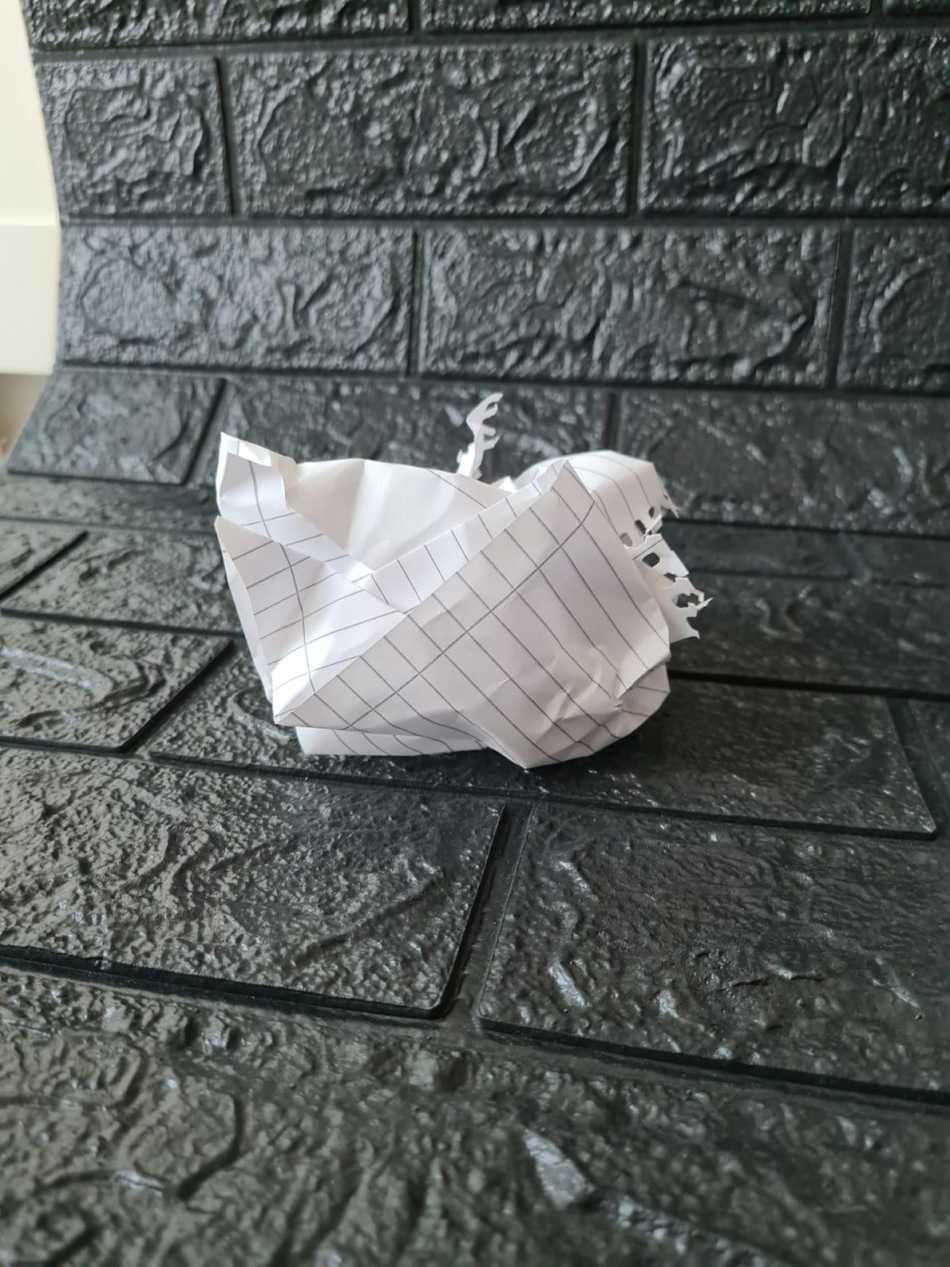paper: (225, 449, 711, 768)
